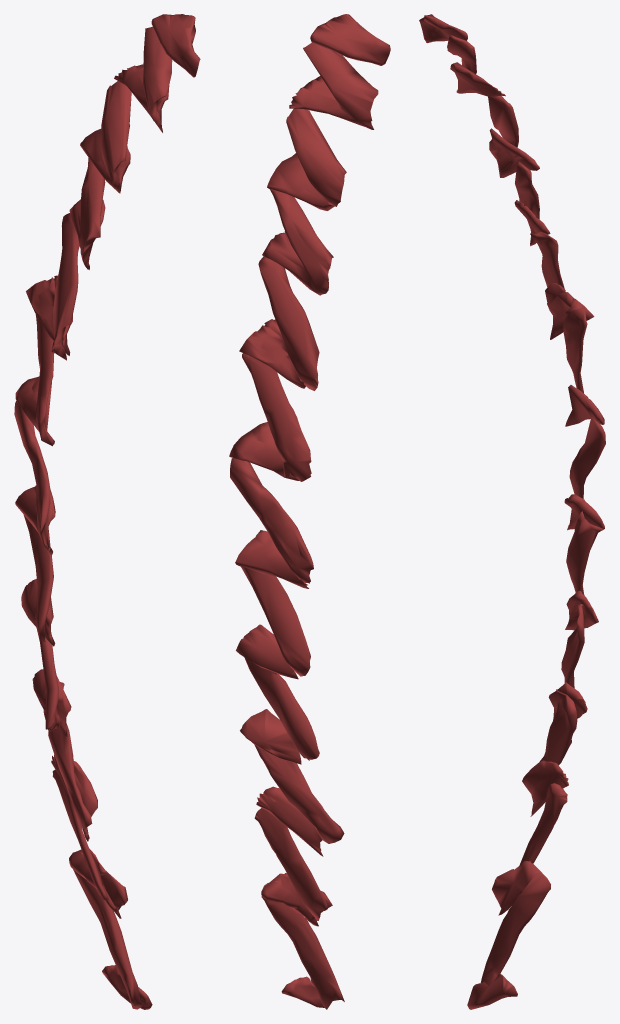
File: multifidus-thoracis-muscle-r.glb
3 views of the same model, side by side, from view 1: azimuth 90°, elevation 25°; view 2: azimuth 150°, elevation 25°; view 3: azimuth 270°, elevation 25° (orthographic). The views are drawn at different scales.
Parts seen in each view (by area): view 1: Multifidus thoracis muscle.r; view 2: Multifidus thoracis muscle.r; view 3: Multifidus thoracis muscle.r.
Part boxes in pixels (x1,y1,x2,y2): Multifidus thoracis muscle.r: [14, 14, 200, 1009]; Multifidus thoracis muscle.r: [229, 14, 390, 1009]; Multifidus thoracis muscle.r: [419, 14, 605, 1009].
Size of the model in its own units: 0.0262 by 0.3079 by 0.0524.
